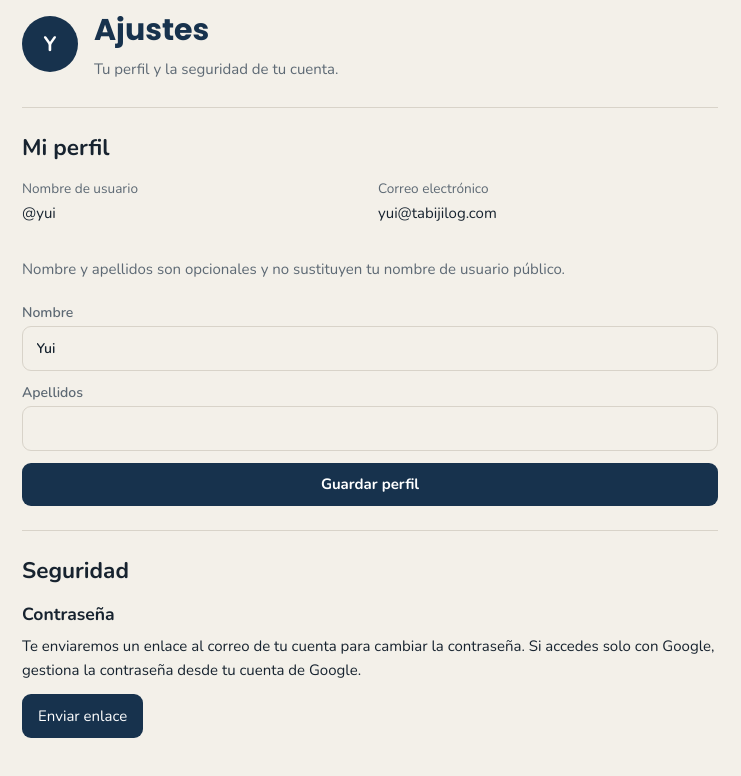
edits profile and confirms successful saving
In the field labelled "Apellidos": (370, 429) [22,406,718,451], type " Test"
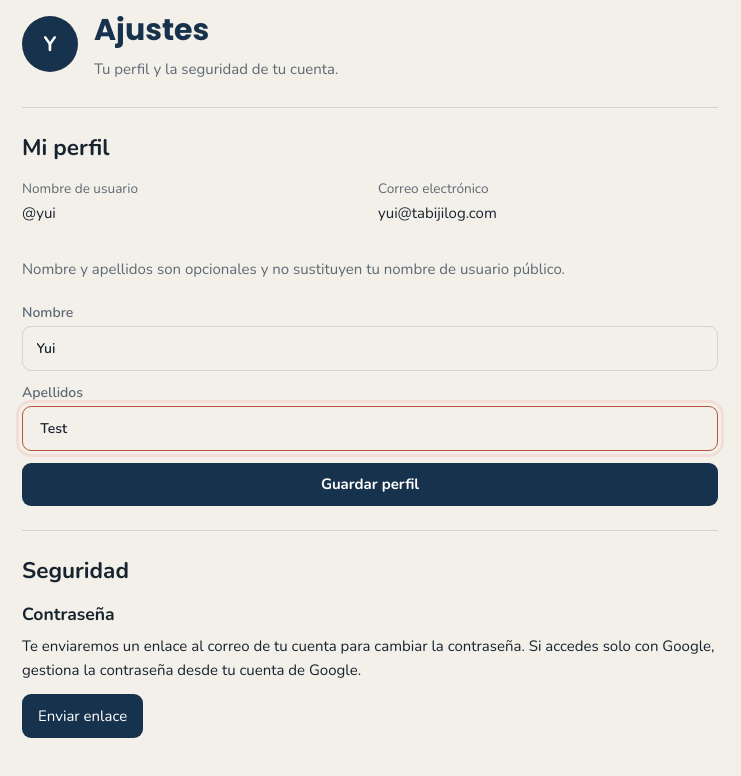
Click the button "Guardar perfil": (370, 484) [22,463,718,506]
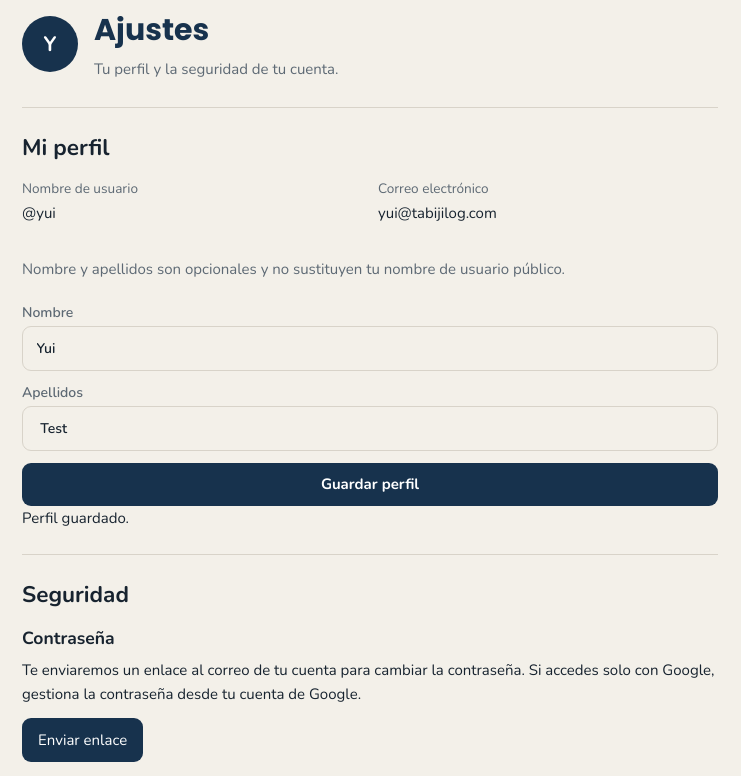
Expected: the text "Perfil guardado." is shown, [22,508,129,528]
